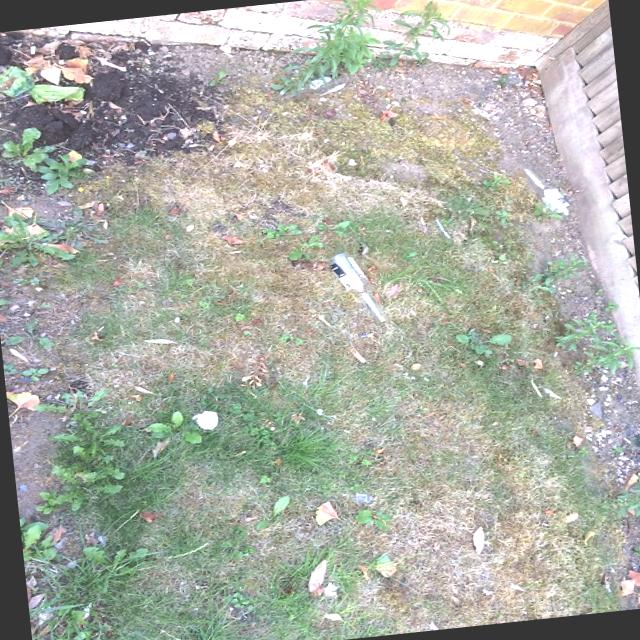Recycle: (332, 248, 388, 328)
